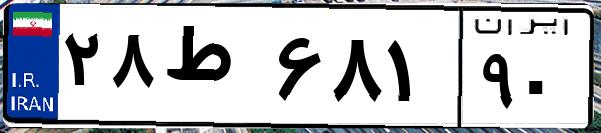0: (525, 38, 570, 115)
1: (385, 28, 445, 110)
2: (57, 26, 110, 100)
6: (270, 28, 330, 110)
8: (330, 28, 385, 110), (110, 28, 158, 98)
9: (475, 38, 525, 113)
ط: (158, 20, 270, 120)
